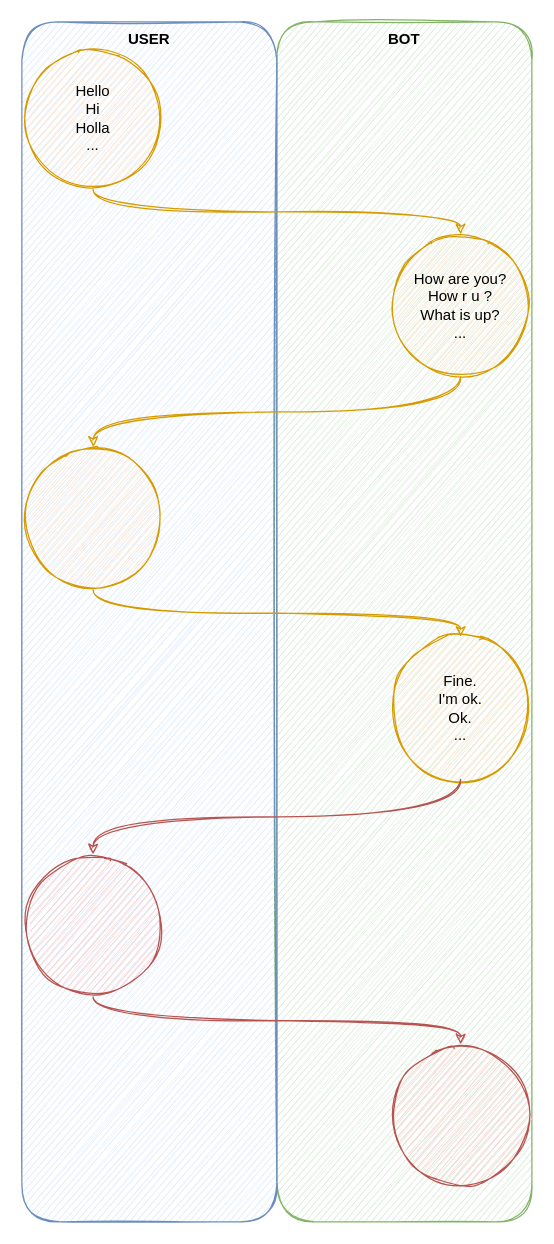
The diagram is 554 pixels wide and 1244 high, and some of its shapes have lost their labels. Each missing label, with the centre of its shape:
Fine. How r u? I'm ok. How r u? Ok. How r u? ...: the point at 92,517
Let's talk about news ....: the point at 92,925
That's breaking news.... ...: the point at 460,1115
